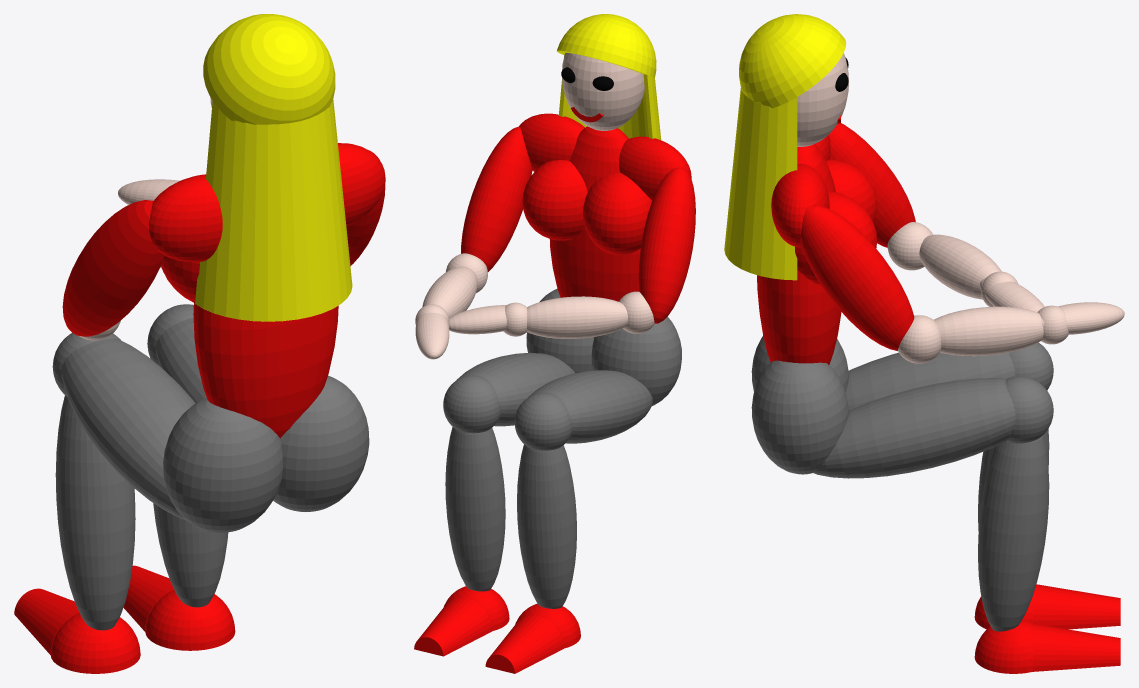
File: Noulo.glb
3 views of the same model, side by side, from view 1: azimuth 30°, elevation 25°; view 2: azimuth 150°, elevation 25°; view 3: azimuth 270°, elevation 25° (orthographic). The views are drawn at different scales.
Parts seen in each view (by area): view 1: VisualSceneNode1.027, VisualSceneNode1.001, VisualSceneNode1.004, VisualSceneNode1.009, VisualSceneNode1.023, VisualSceneNode1.018, VisualSceneNode1.024, VisualSceneNode1.028, VisualSceneNode1.017, VisualSceneNode1.008, VisualSceneNode1.011, VisualSceneNode1 (+9 smaller); view 2: VisualSceneNode1.008, VisualSceneNode1.009, VisualSceneNode1.001, VisualSceneNode1.028, VisualSceneNode1.013, VisualSceneNode1.004, VisualSceneNode1.023, VisualSceneNode1.002, VisualSceneNode1.025, VisualSceneNode1.026, VisualSceneNode1.018, VisualSceneNode1.029 (+17 smaller); view 3: VisualSceneNode1.003, VisualSceneNode1.008, VisualSceneNode1.027, VisualSceneNode1.013, VisualSceneNode1.024, VisualSceneNode1.018, VisualSceneNode1.001, VisualSceneNode1.004, VisualSceneNode1.015, VisualSceneNode1.028, VisualSceneNode1.012, VisualSceneNode1.010 (+14 smaller).
Boxes of the visible parts, x1,y1,x2,y2 form: VisualSceneNode1.027: [195, 99, 352, 321]; VisualSceneNode1.001: [193, 300, 338, 438]; VisualSceneNode1.004: [61, 338, 195, 519]; VisualSceneNode1.009: [55, 395, 135, 630]; VisualSceneNode1.023: [163, 397, 282, 532]; VisualSceneNode1.018: [203, 14, 335, 124]; VisualSceneNode1.024: [273, 375, 369, 511]; VisualSceneNode1.028: [62, 200, 164, 336]; VisualSceneNode1.017: [149, 174, 222, 262]; VisualSceneNode1.008: [153, 503, 228, 607]; VisualSceneNode1.011: [145, 590, 235, 650]; VisualSceneNode1: [50, 613, 140, 673]; VisualSceneNode1.008: [445, 427, 505, 591]; VisualSceneNode1.009: [517, 444, 576, 608]; VisualSceneNode1.001: [549, 126, 640, 337]; VisualSceneNode1.028: [638, 167, 695, 323]; VisualSceneNode1.013: [461, 126, 532, 271]; VisualSceneNode1.004: [528, 370, 652, 443]; VisualSceneNode1.023: [591, 316, 681, 405]; VisualSceneNode1.002: [562, 52, 644, 130]; VisualSceneNode1.025: [583, 172, 651, 254]; VisualSceneNode1.026: [522, 160, 587, 240]; VisualSceneNode1.018: [557, 14, 656, 78]; VisualSceneNode1.029: [527, 296, 627, 338]; VisualSceneNode1.003: [813, 378, 1015, 478]; VisualSceneNode1.008: [978, 435, 1049, 631]; VisualSceneNode1.027: [724, 88, 797, 280]; VisualSceneNode1.013: [800, 204, 914, 350]; VisualSceneNode1.024: [751, 360, 848, 474]; VisualSceneNode1.018: [739, 14, 846, 108]; VisualSceneNode1.001: [757, 144, 841, 364]; VisualSceneNode1.004: [845, 352, 1015, 410]; VisualSceneNode1.015: [934, 306, 1043, 356]; VisualSceneNode1.028: [829, 123, 915, 247]; VisualSceneNode1.012: [1033, 623, 1120, 671]; VisualSceneNode1.010: [1033, 584, 1120, 629].
Size of the model in its own units: 0.5887 by 1.4 by 0.823.
